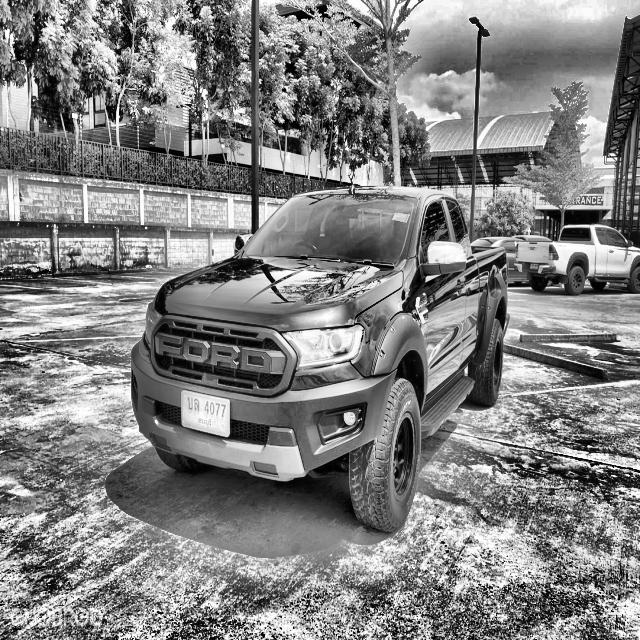license-plate: (179, 385, 232, 439)
